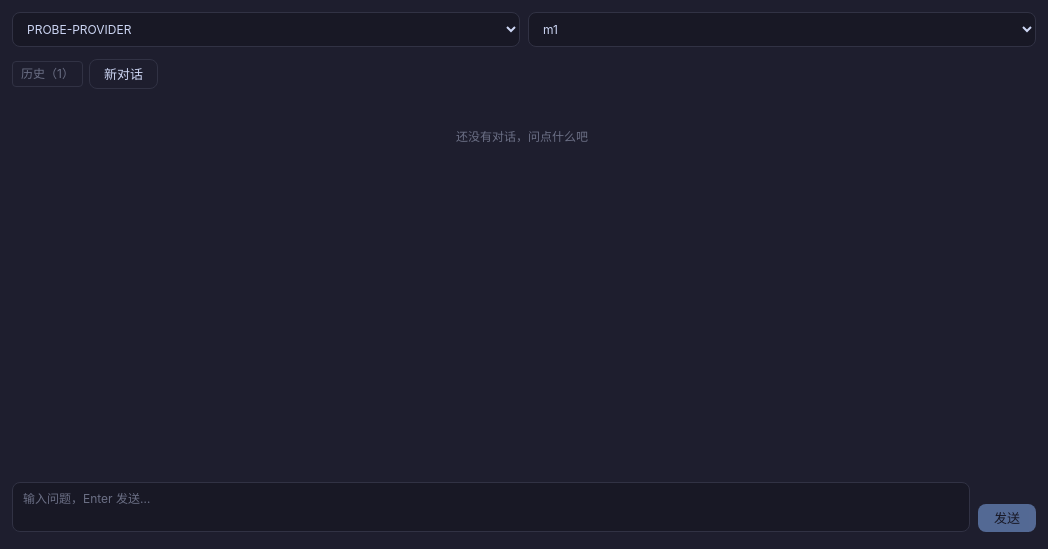
Test case: ② 保留策略那一发：「这里显示的是默认值」那句＋它自己的那颗键 › 说实话不等于禁输入：策略读不到时那两个下拉仍可改、那颗「自动清理」仍可点
Click the button "历史（1）" at (47, 74), box [12,61,83,87]
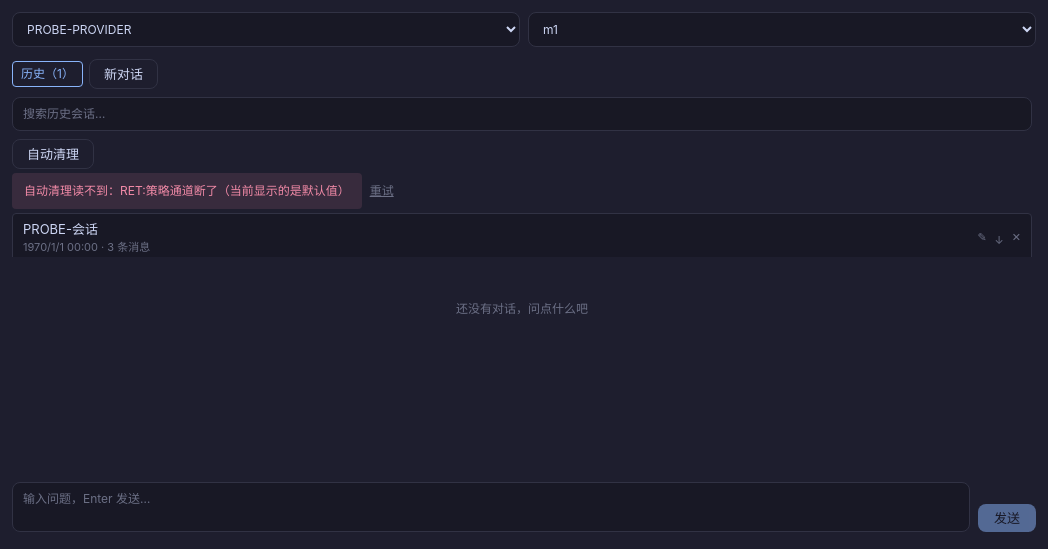
Click the button "自动清理" at (53, 154), box [12,139,94,169]
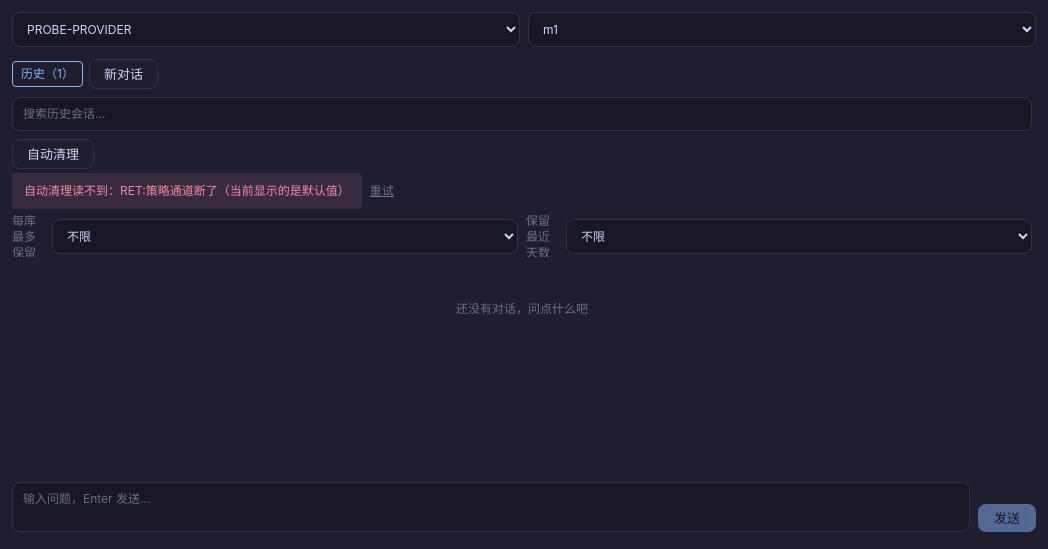
Now the 3rd dropdown is enabled, box [52,219,518,254]
Now the 4th dropdown is enabled, box [566,219,1032,254]
